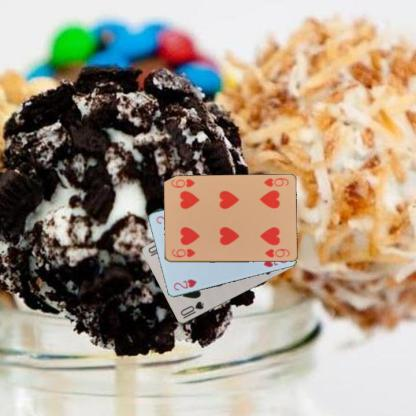10s: (178, 299, 205, 317)
2h: (171, 277, 198, 292)
6h: (261, 176, 290, 188), (170, 246, 196, 258)
